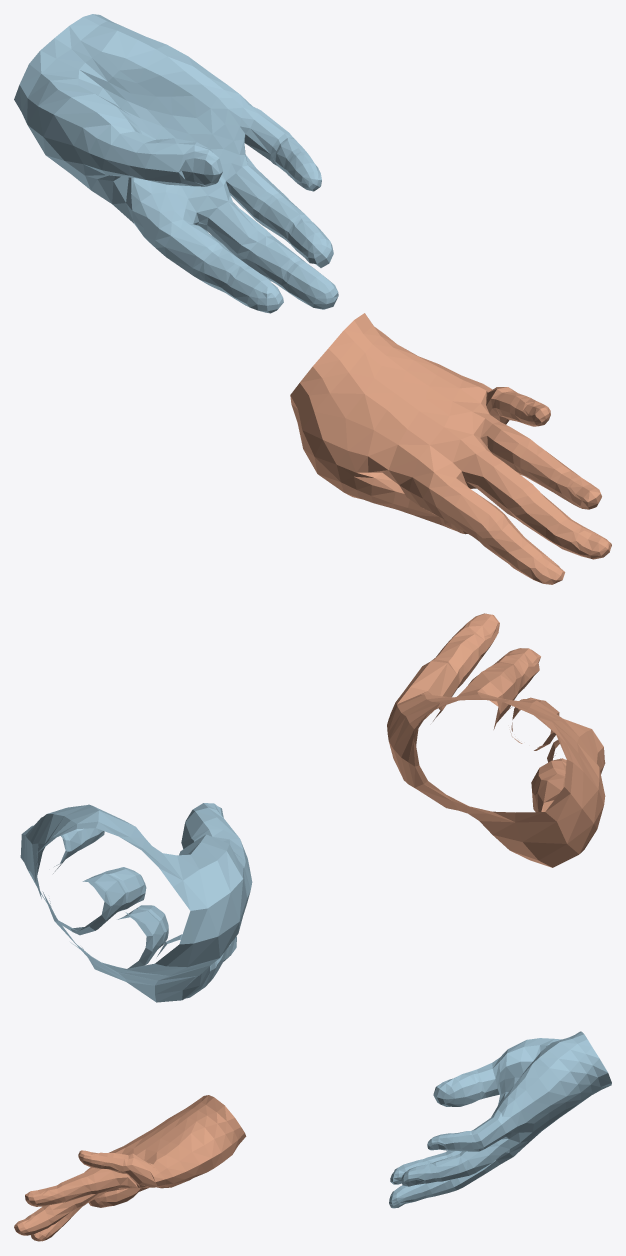
The model's file is frame_030.glb.
The picture shows the model from 3 angles, top to bottom: view 1: azimuth 30°, elevation 25°; view 2: azimuth 150°, elevation 25°; view 3: azimuth 270°, elevation 25°; orthographic projection. The views are drawn at different scales.
Visible parts, largest first — view 1: world; view 2: world; view 3: world.
Boxes of the visible parts, left/top/right/bottom form: world: left=14, top=14, right=611, bottom=584; world: left=20, top=613, right=605, bottom=1002; world: left=14, top=1031, right=611, bottom=1241.
Size of the model in its own units: 0.108 by 0.1421 by 0.4102.
